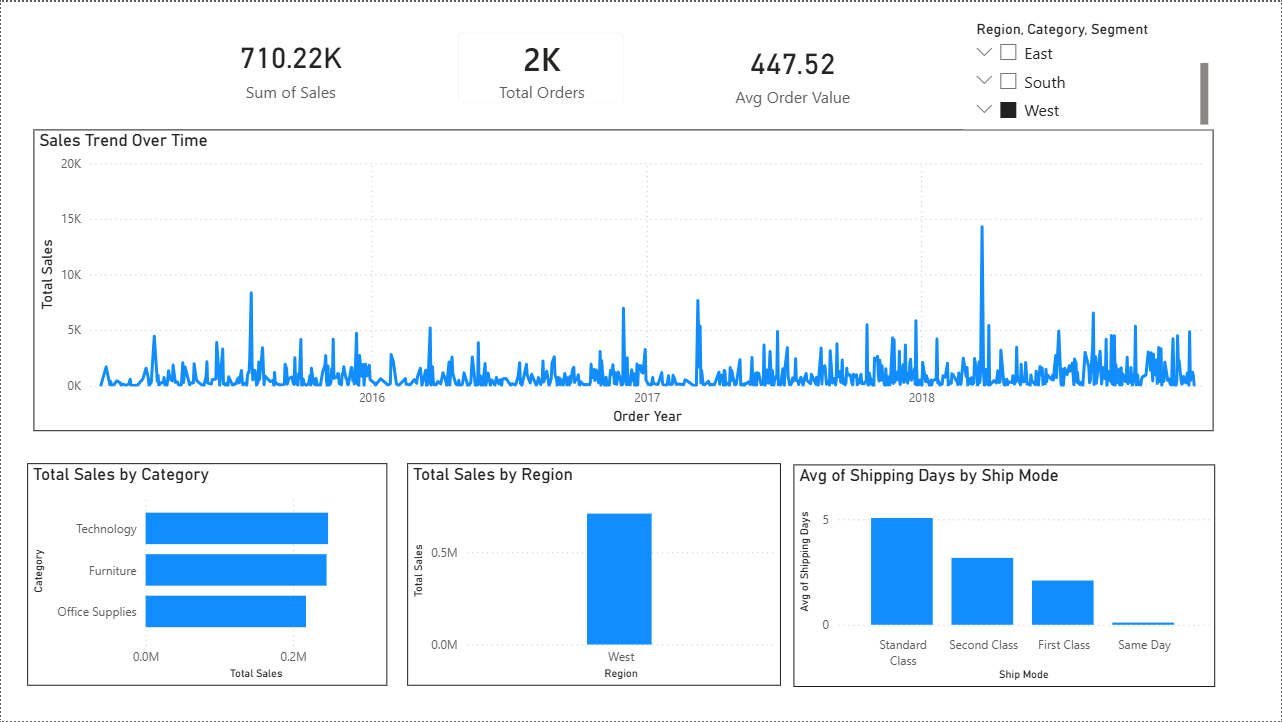

The page's visual inventory and layout, read from the dashboard file:
{"tool":"powerbi","page":{"name":"Page 1","canvas":[1280,720],"ordinal":0},"visuals":[{"type":"card","fields":{"Values":["Sum(cleaned_superstore_data.Sales)"]},"box":[161,13.8,257.5,102.5],"z":0},{"type":"cardVisual","fields":{"Data":["cleaned_superstore_data.Measure"]},"box":[440,13.8,200,105],"z":1000},{"type":"card","fields":{"Values":["cleaned_superstore_data.Avg Order Value"]},"box":[667.3,13.8,248.8,113.8],"z":2000},{"type":"lineChart","title":"Sales Trend Over Time","fields":{"Category":["cleaned_superstore_data.Order Date"],"Y":["cleaned_superstore_data.Total Sales"]},"box":[33,127.5,1180,301.2],"z":3000},{"type":"barChart","fields":{"Y":["cleaned_superstore_data.Total Sales"],"Category":["cleaned_superstore_data.Category"]},"box":[26.2,461.2,360,222.5],"z":4000},{"type":"clusteredColumnChart","fields":{"Category":["cleaned_superstore_data.Region"],"Y":["cleaned_superstore_data.Total Sales"]},"box":[386.2,461.2,361.2,222.5],"z":5000},{"type":"clusteredColumnChart","fields":{"Category":["cleaned_superstore_data.Ship Mode"],"Y":["cleaned_superstore_data.Avg of Shipping Days"]},"box":[747.5,461.2,460,222.5],"z":6000},{"type":"slicer","fields":{"Values":["cleaned_superstore_data.Region","cleaned_superstore_data.Category","cleaned_superstore_data.Segment"]},"box":[962.3,13.8,250,113.8],"z":7000}]}

Visuals, with their boxes in screenshot pixels (x1, y1, x2, y2), scaled from the page's 1280x720 canvas onto the 1282x722 screenshot:
card - Sum(cleaned_superstore_data.Sales): 161:14:419:117
cardVisual - cleaned_superstore_data.Measure: 441:14:641:119
card - cleaned_superstore_data.Avg Order Value: 668:14:918:128
"Sales Trend Over Time" lineChart: 33:128:1215:430
barChart - cleaned_superstore_data.Total Sales x cleaned_superstore_data.Category: 26:462:387:686
clusteredColumnChart - cleaned_superstore_data.Region x cleaned_superstore_data.Total Sales: 387:462:749:686
clusteredColumnChart - cleaned_superstore_data.Ship Mode x cleaned_superstore_data.Avg of Shipping Days: 749:462:1209:686
slicer - cleaned_superstore_data.Region x cleaned_superstore_data.Category: 964:14:1214:128
